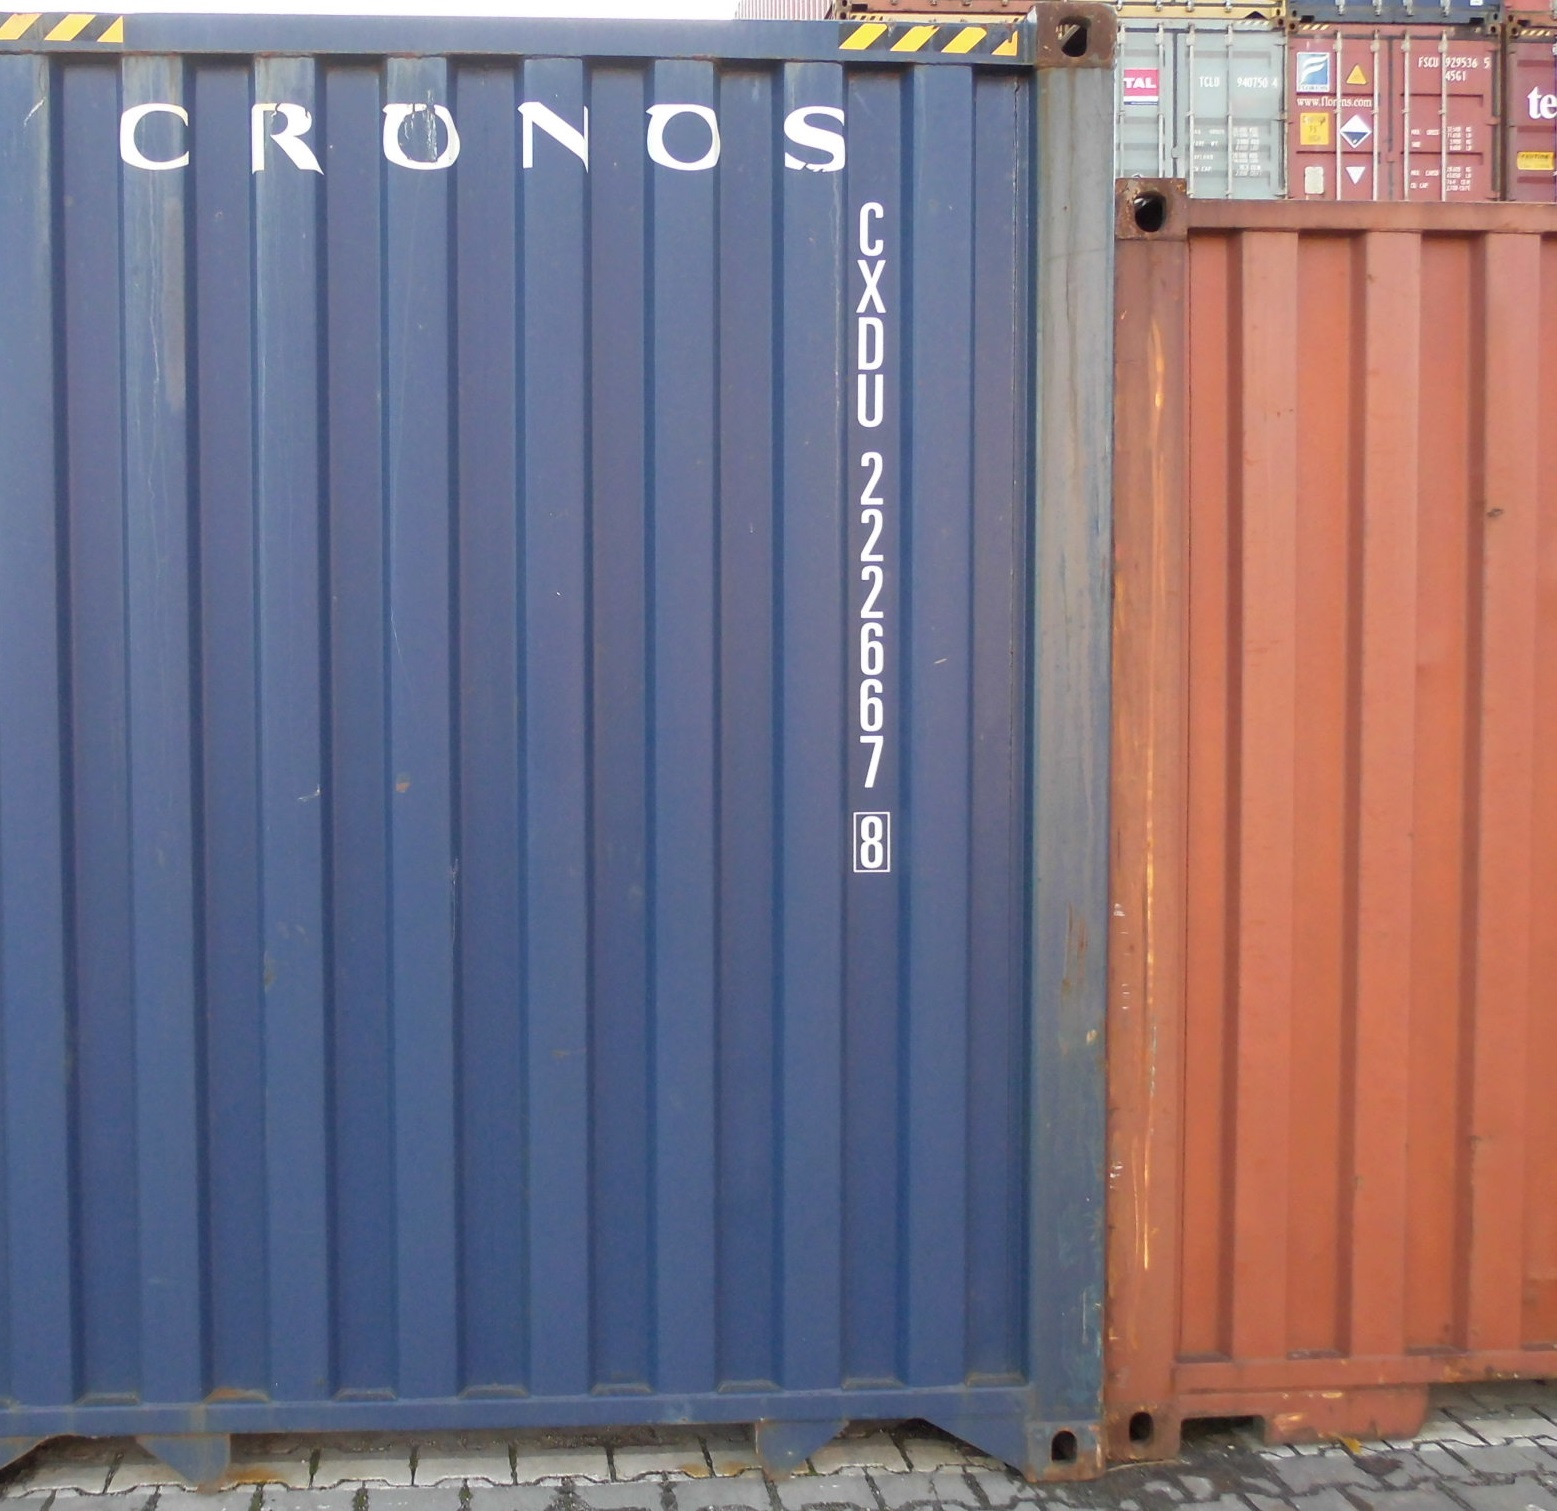container_no_door: (1, 1, 1105, 1475), (1116, 171, 1556, 1455)
